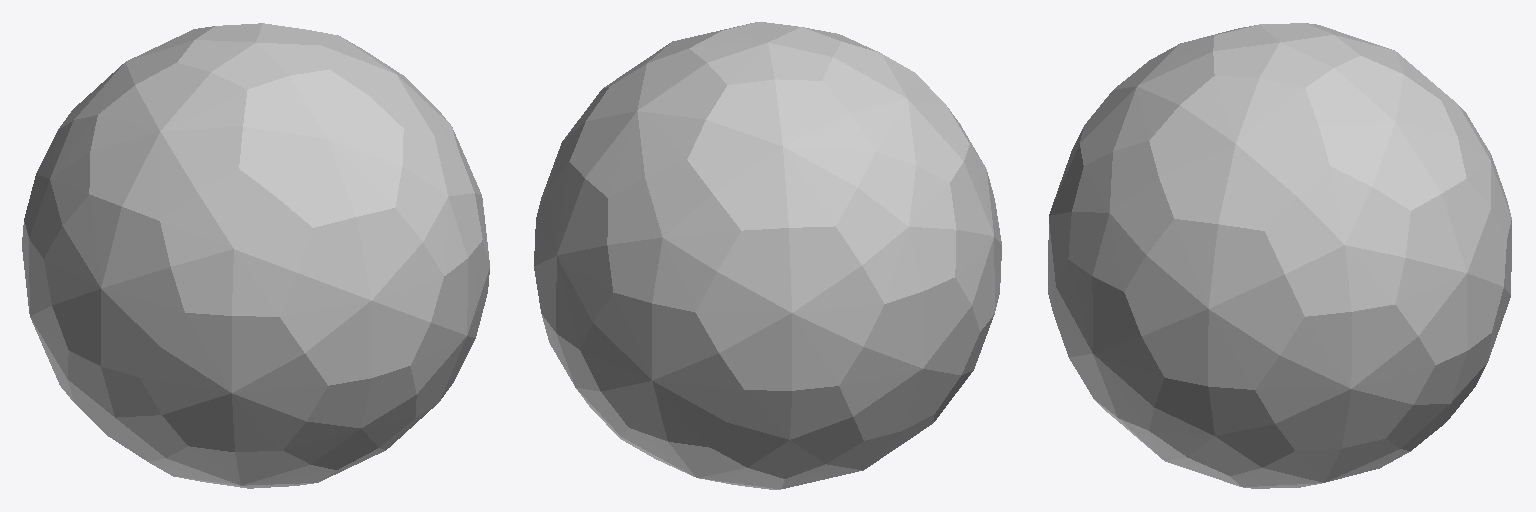
Rendered from dome.obj.
3 views of the same model, side by side, from view 1: azimuth 30°, elevation 25°; view 2: azimuth 150°, elevation 25°; view 3: azimuth 270°, elevation 25° (orthographic).
Parts seen in each view (by area): view 1: soccer_ball; view 2: soccer_ball; view 3: soccer_ball.
Part boxes in pixels (left/top/right/bottom): soccer_ball: left=22, top=23, right=489, bottom=488; soccer_ball: left=534, top=22, right=1001, bottom=489; soccer_ball: left=1048, top=23, right=1511, bottom=488.
Size of the model in its own units: 11.32 by 11.32 by 11.14.